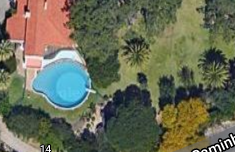pool: (40, 68, 87, 104)
